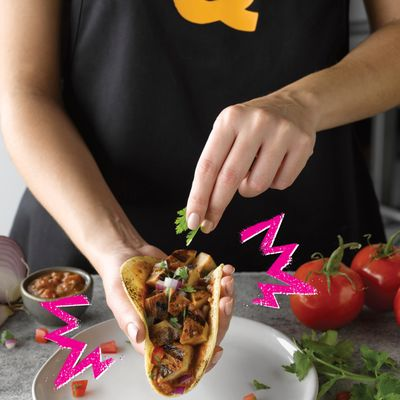soup: (119, 248, 235, 397)
sushi: (20, 266, 94, 330)
